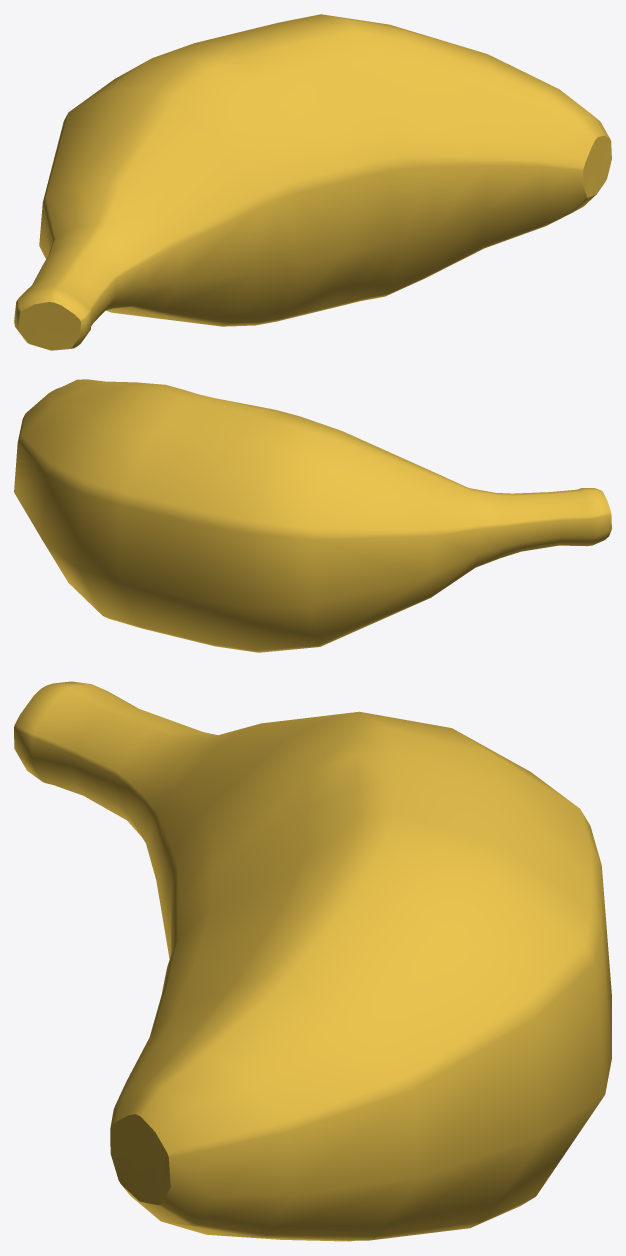
File: Banana_Particle.fbx
3 renders of one model, top to bottom at view 1: azimuth 30°, elevation 25°; view 2: azimuth 150°, elevation 25°; view 3: azimuth 270°, elevation 25°, orthographic. The views are drawn at different scales.
Parts seen in each view (by area): view 1: Banana_Particle; view 2: Banana_Particle; view 3: Banana_Particle.
Part boxes in pixels (bbox=[...]): Banana_Particle: bbox=[14, 14, 611, 350]; Banana_Particle: bbox=[14, 379, 611, 652]; Banana_Particle: bbox=[14, 681, 611, 1241].
Size of the model in its own units: 215 by 84.37 by 116.
